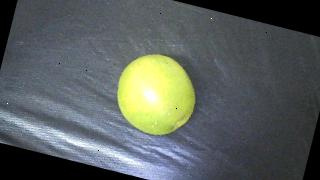LOCAL: (109, 47, 205, 143)
